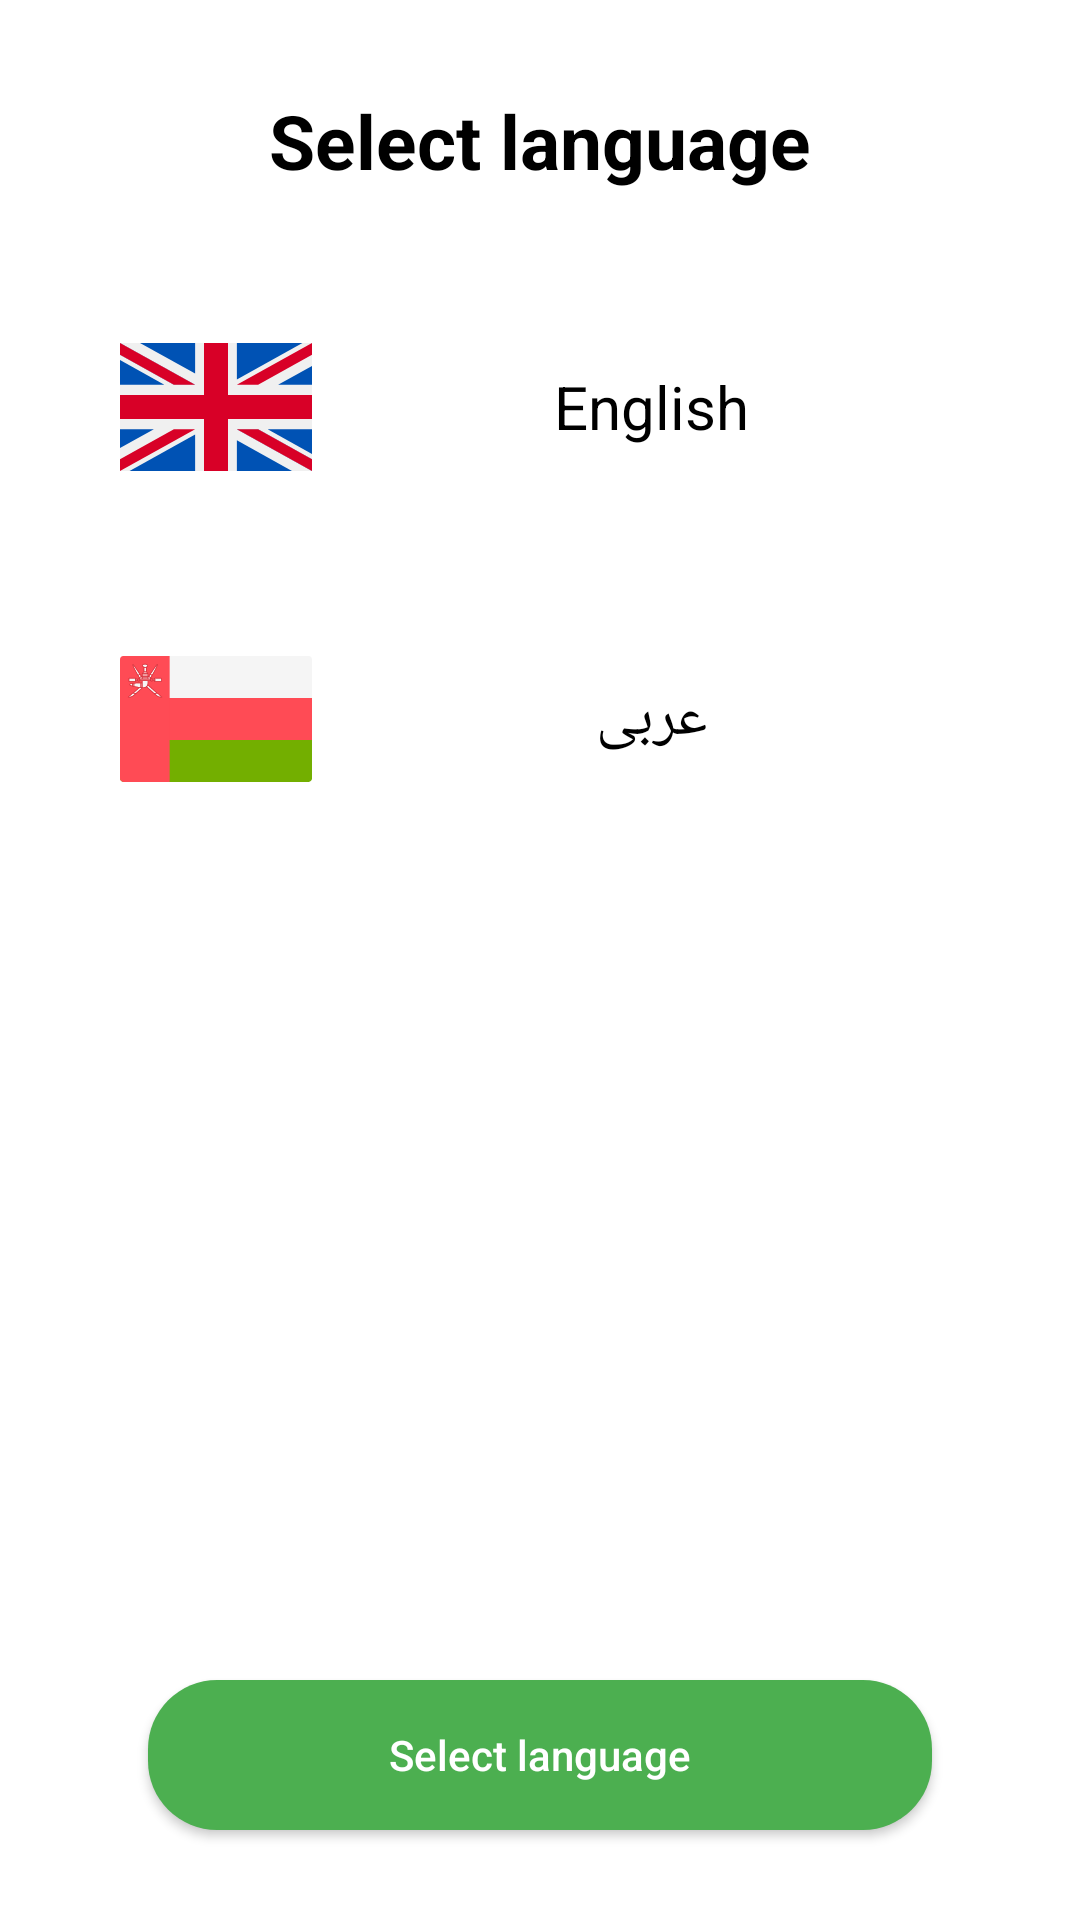

Where to tap for icons on this 1080*1920 app screen, as (x,y):
oman: (216,719)
UK flag: (216,407)
